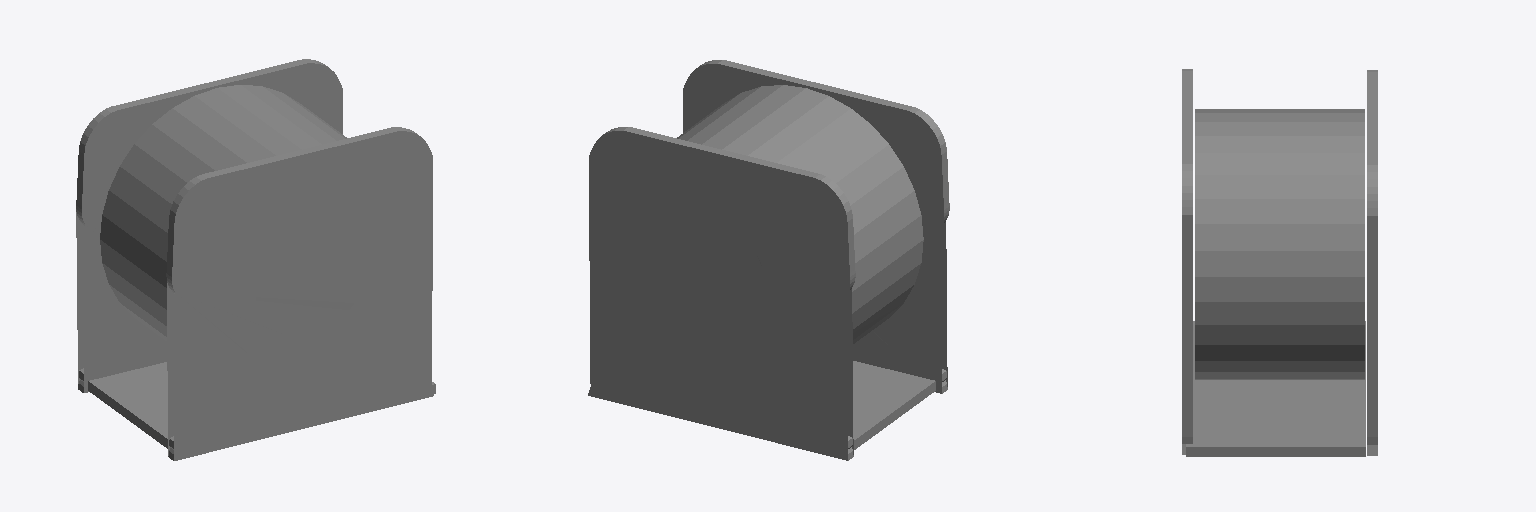
File: cintamedica.obj
The picture shows the model from 3 angles: view 1: azimuth 30°, elevation 25°; view 2: azimuth 150°, elevation 25°; view 3: azimuth 270°, elevation 25°; orthographic projection.
Visible parts, largest first — view 1: Line002, Tube001, Line001, Box002; view 2: Line001, Tube001, Line002, Box002; view 3: Tube001, Box002, Line001, Line002.
Boxes of the visible parts, box(x1,y1,x2,y2) form: Line002: box(166, 127, 433, 460); Tube001: box(100, 85, 346, 340); Line001: box(76, 59, 342, 392); Box002: box(88, 362, 435, 448); Line001: box(588, 127, 855, 460); Tube001: box(677, 85, 923, 343); Line002: box(683, 60, 949, 393); Box002: box(853, 361, 935, 449); Tube001: box(1195, 109, 1364, 379); Box002: box(1186, 321, 1365, 456); Line001: box(1367, 70, 1377, 455); Line002: box(1182, 69, 1192, 454).
Size of the model in its own units: 0.7045 by 0.6981 by 0.4489.